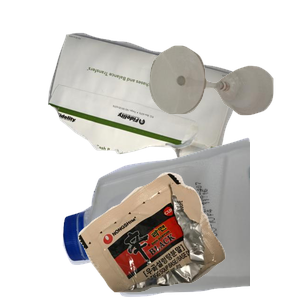glass: (147, 43, 300, 151)
paper: (45, 30, 281, 195)
plastic: (60, 135, 300, 300)
trash: (76, 170, 300, 300)
